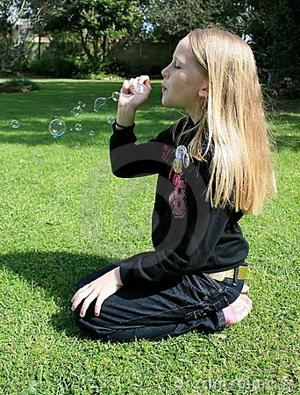person: (70, 23, 277, 343)
